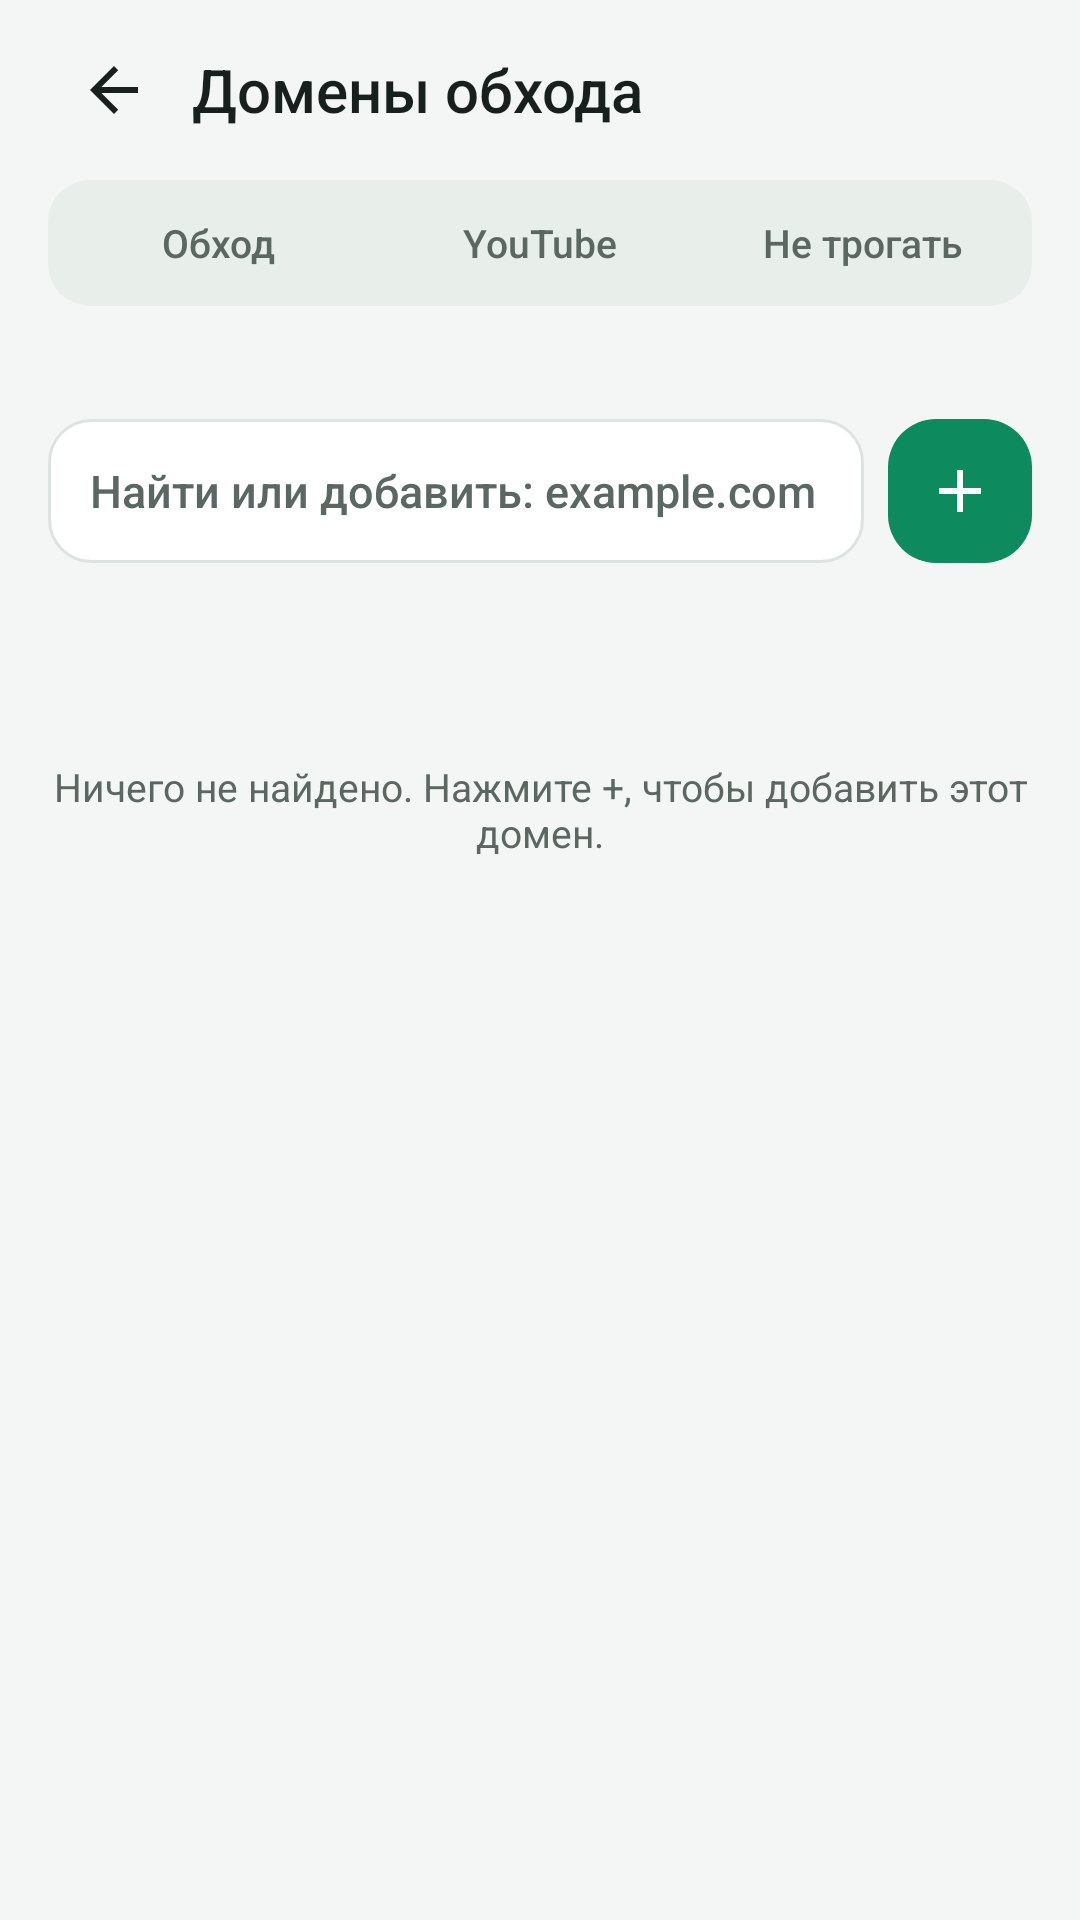

Point at icon controls on the screen. Image size 1080×1920, points as [x,y].
Добавить домен: [960,491]
Назад: [114,90]
